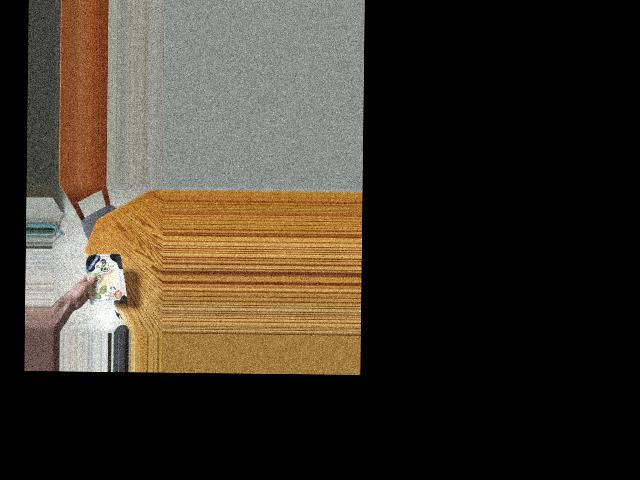cheese: (83, 246, 127, 310)
